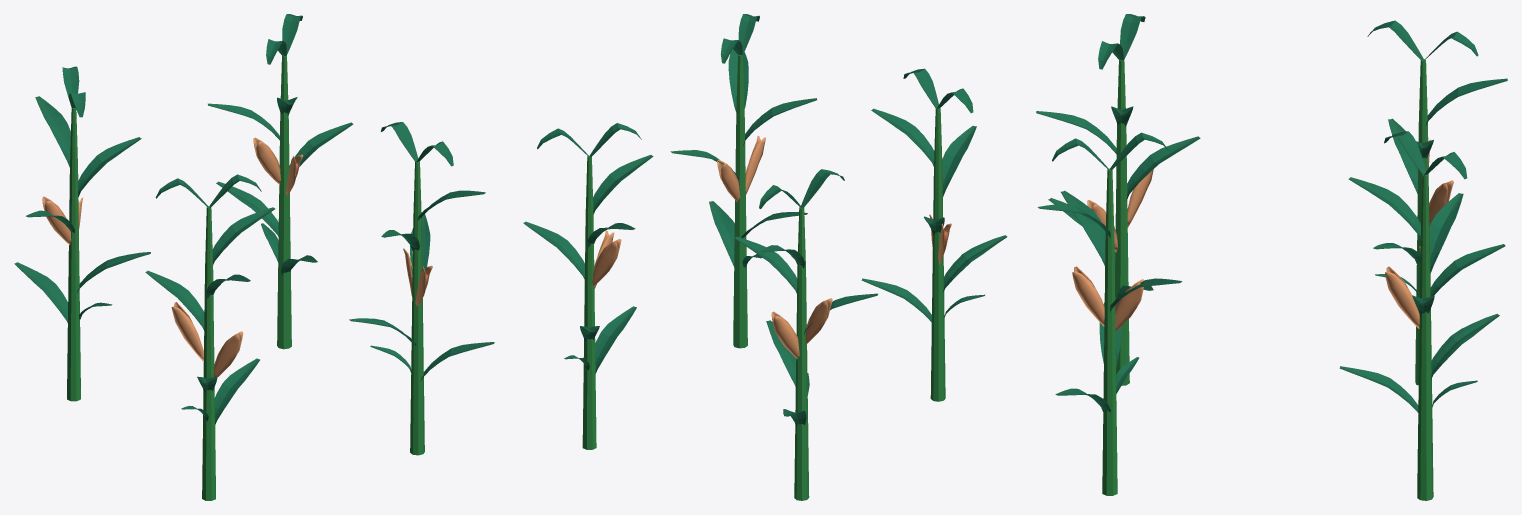
The model's file is Frikankolf5.fbx.
3 views of the same model, side by side, from view 1: azimuth 30°, elevation 25°; view 2: azimuth 150°, elevation 25°; view 3: azimuth 270°, elevation 25° (orthographic). The views are drawn at different scales.
Parts seen in each view (by area): view 1: Frikankolf5; view 2: Frikankolf5; view 3: Frikankolf5.
Boxes of the visible parts, x1,y1,x2,y2 form: Frikankolf5: [14, 14, 494, 500]; Frikankolf5: [523, 14, 1007, 500]; Frikankolf5: [1036, 14, 1507, 500].
Bounding box in the file's own units: 132 × 118 × 143.
